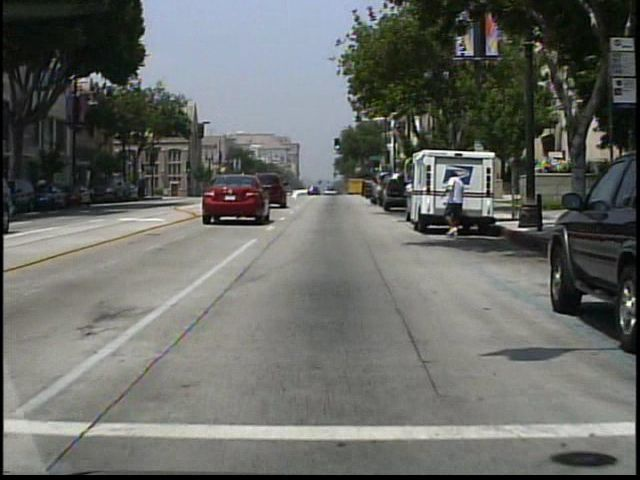person: (439, 170, 472, 239)
